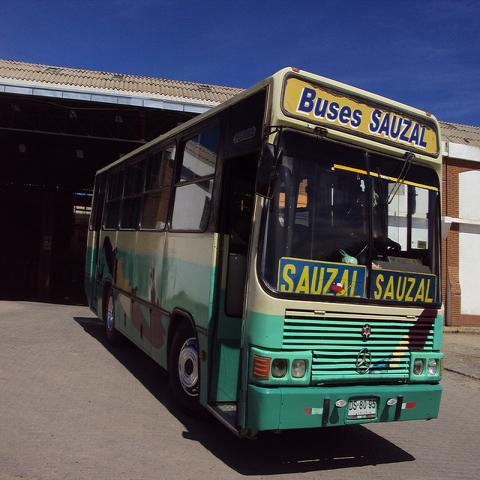bus: (86, 65, 442, 446)
